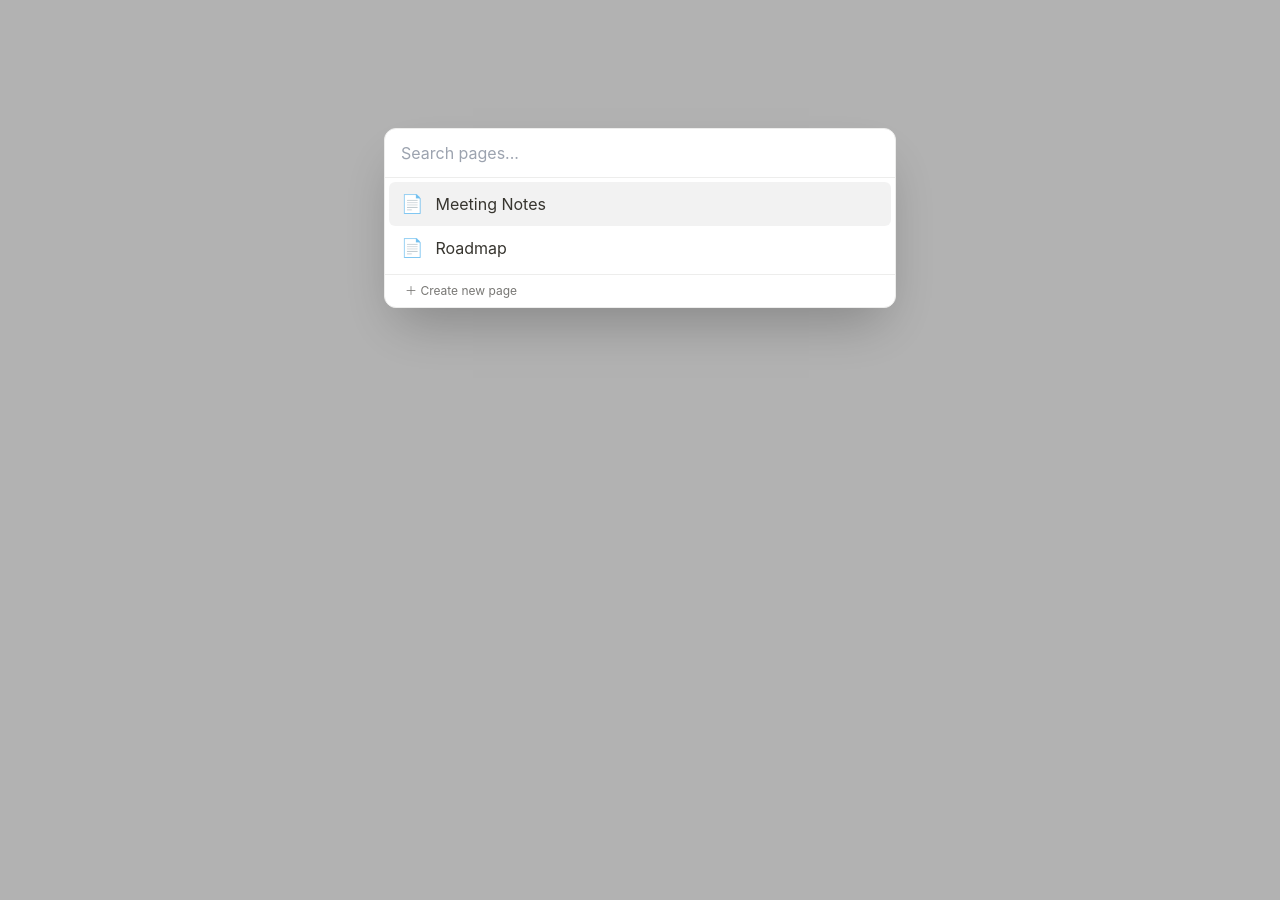
QuickFind › matches pages by title
The width and height of the screenshot is (1280, 900).
In the field with placeholder "Search pages...": (640, 154) [385,129,895,178], type "road"
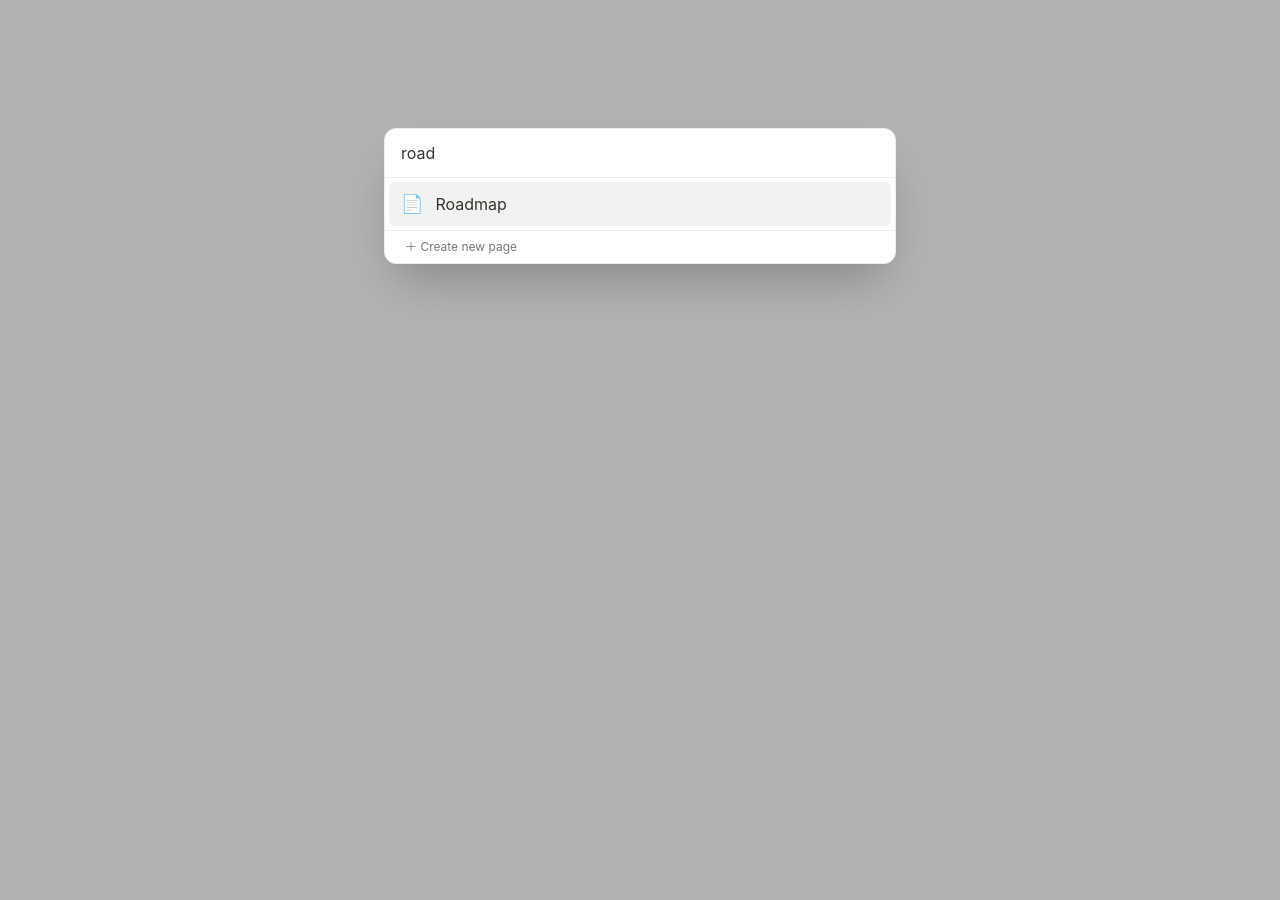
expect the text "Roadmap" is shown: met, box [436,194,507,214]
expect the button "Meeting Notes" is gone: met
